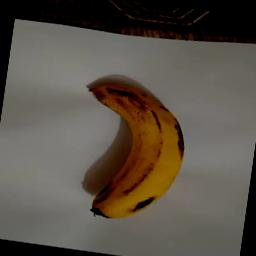Banana Unripe: (64, 75, 194, 229)
